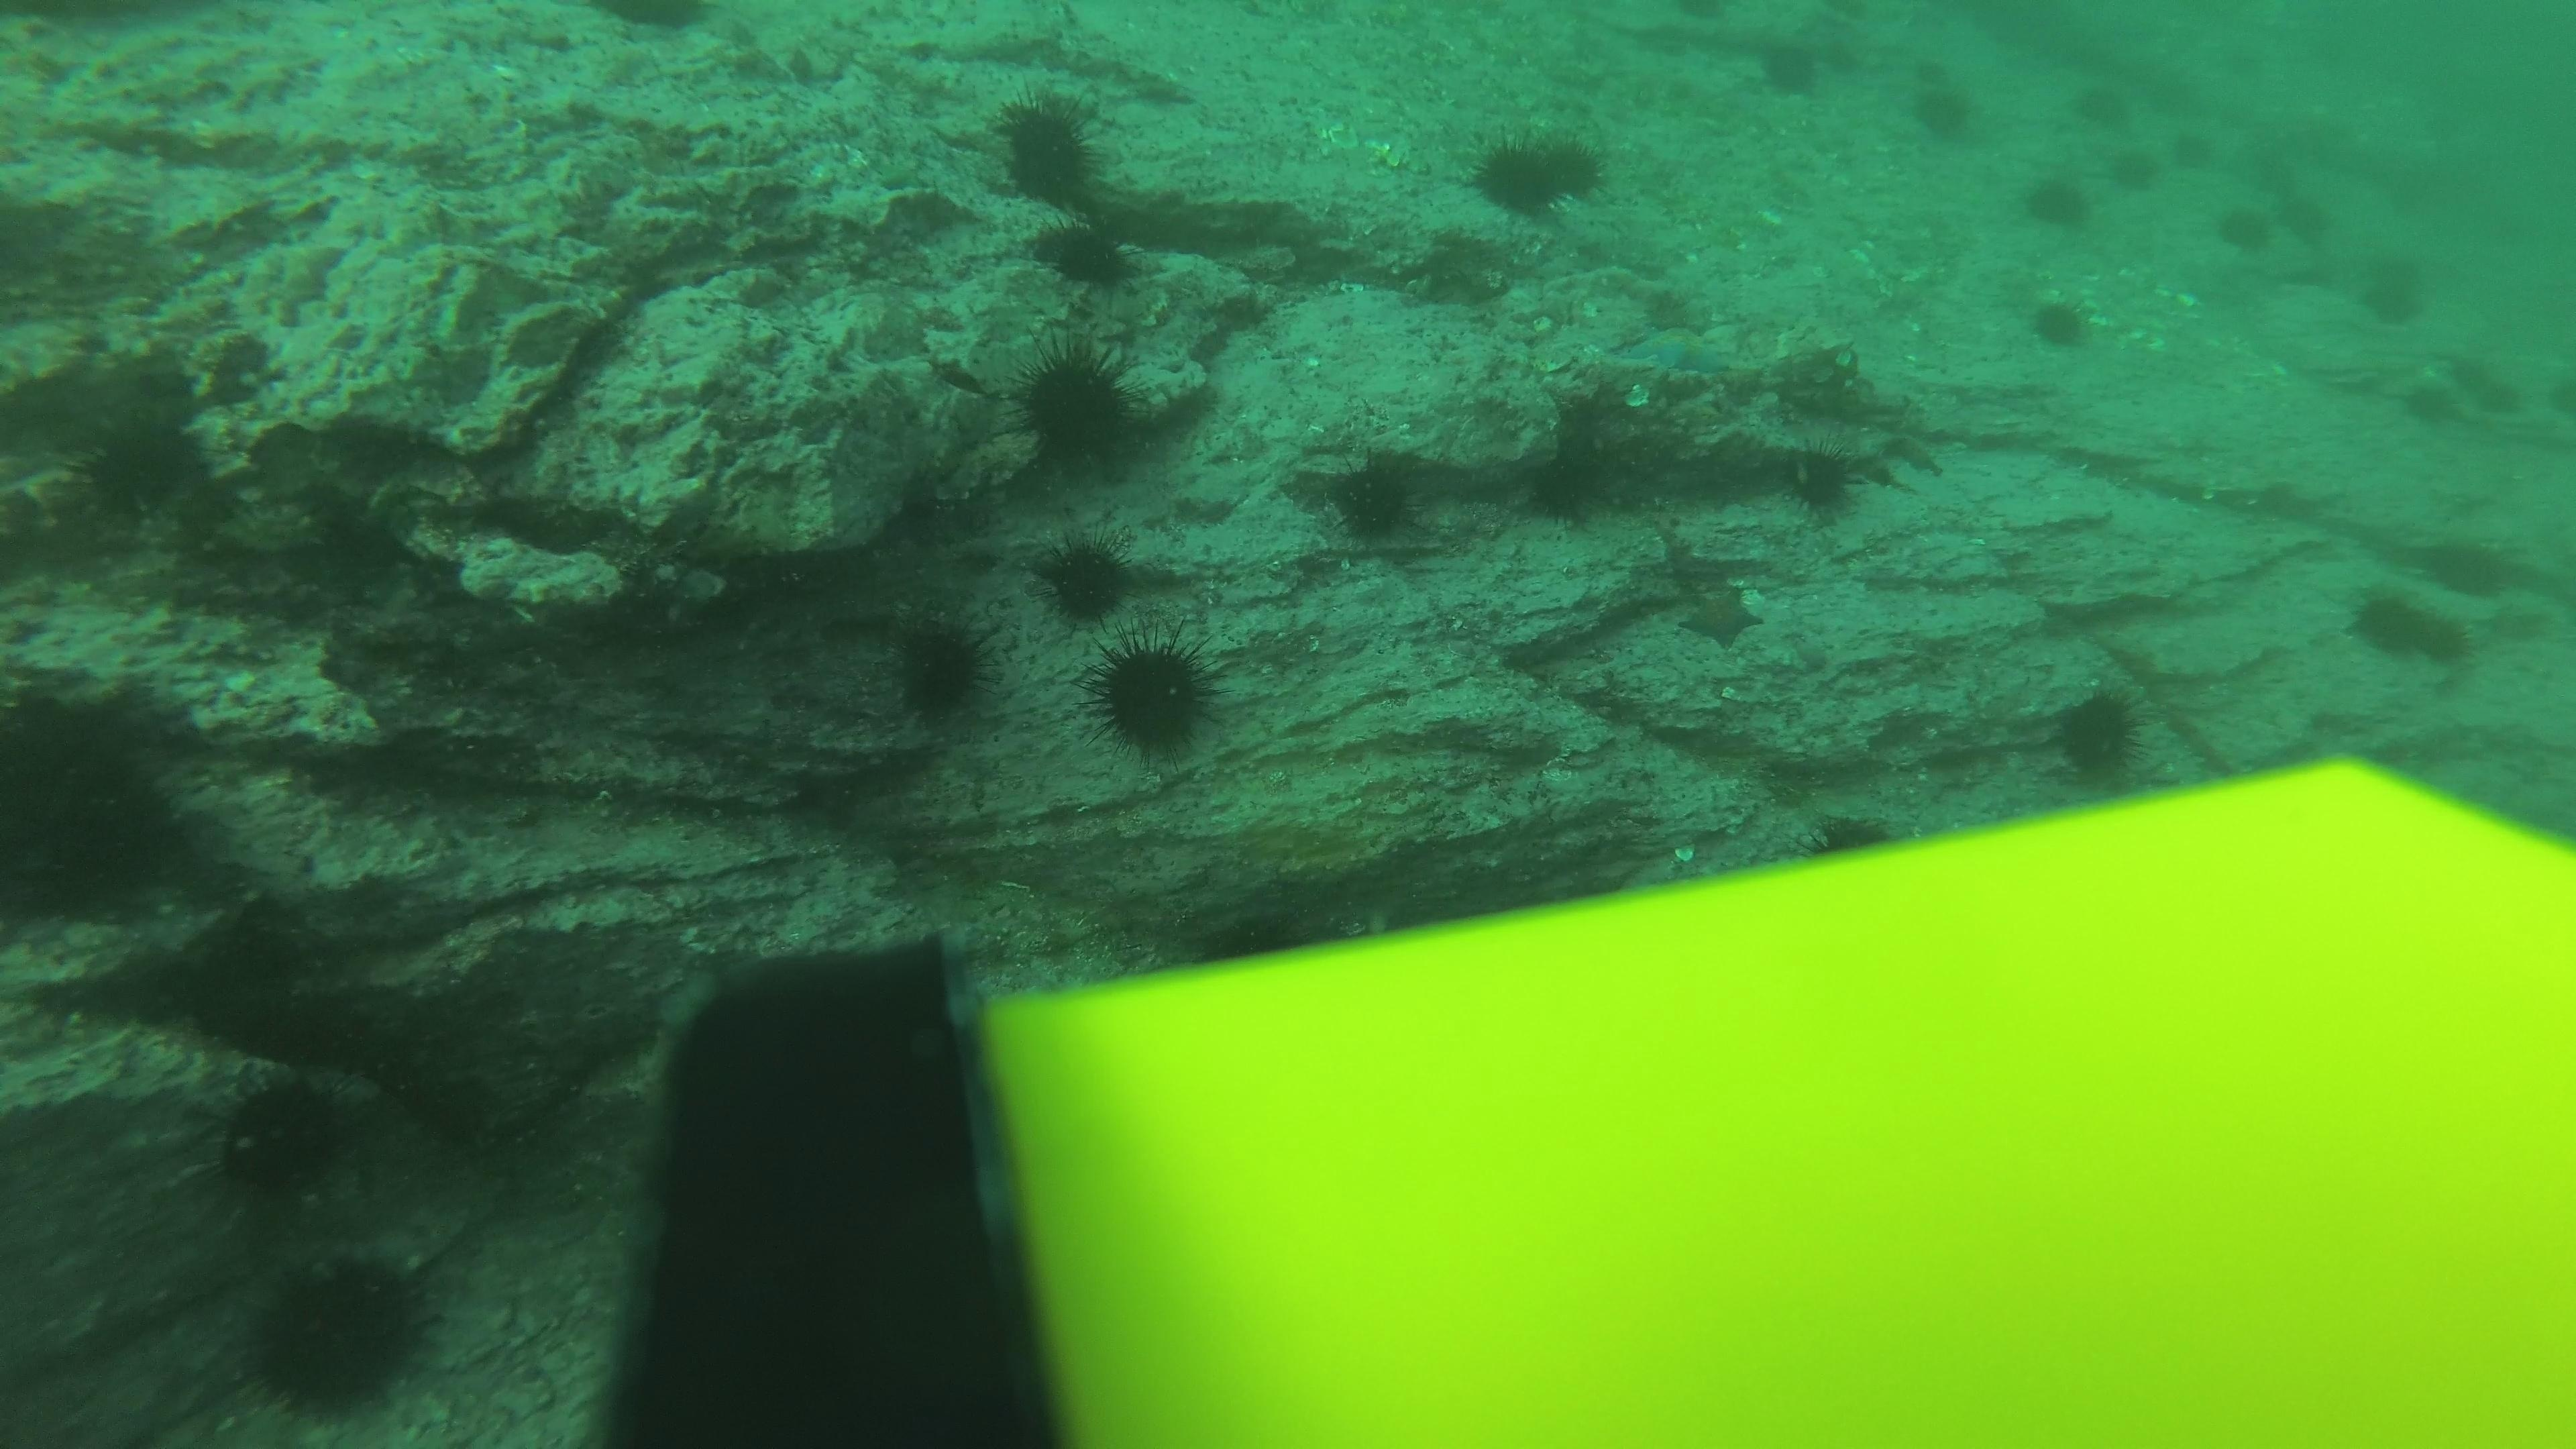echinus: (2, 699, 191, 932), (234, 1244, 444, 1422), (205, 1069, 357, 1205), (1008, 338, 1150, 479), (1083, 628, 1226, 763), (69, 405, 211, 529), (984, 87, 1113, 214), (881, 610, 1000, 727), (1309, 448, 1435, 554), (2040, 681, 2160, 791), (1030, 531, 1141, 630), (1028, 211, 1141, 297), (1465, 134, 1562, 223), (2413, 527, 2523, 605), (1776, 441, 1874, 524), (2348, 244, 2438, 331), (2341, 582, 2427, 656), (1748, 34, 1829, 104), (2017, 166, 2097, 235), (2024, 290, 2098, 356), (1900, 83, 1976, 147), (1543, 131, 1612, 198), (2413, 609, 2484, 667), (2102, 145, 2162, 193), (2162, 120, 2222, 168), (2215, 205, 2275, 253), (2281, 198, 2341, 246), (2399, 380, 2459, 428), (2431, 341, 2491, 389), (2477, 373, 2537, 421), (1911, 42, 1971, 88), (2077, 83, 2137, 129), (2242, 145, 2302, 191), (2548, 375, 2576, 425)
starfish: (1606, 318, 1744, 386), (1668, 580, 1766, 651), (1877, 430, 1948, 483)
